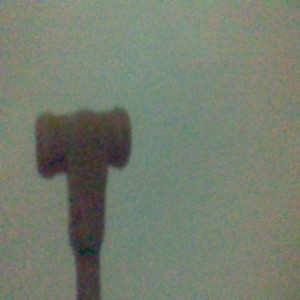palu: (33, 105, 133, 300)
